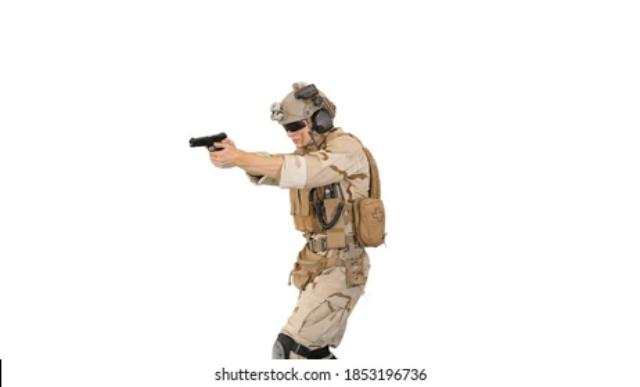other: (256, 85, 388, 362)
